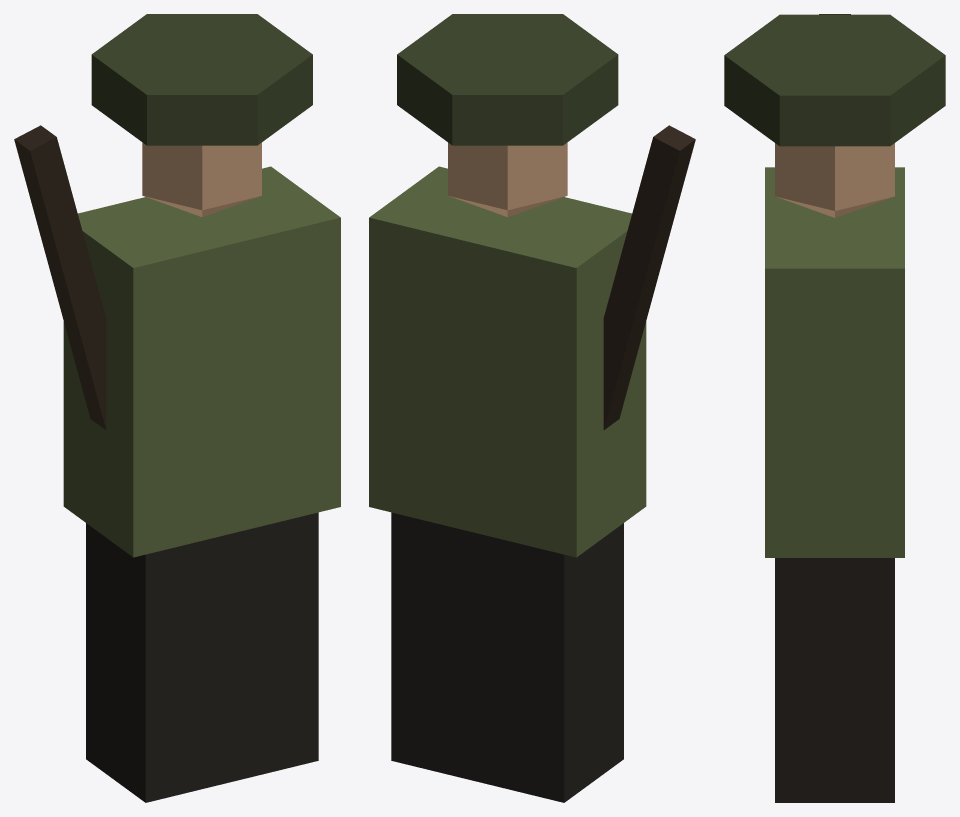
Rendered from soldier.glb.
3 views of the same model, side by side, from view 1: azimuth 30°, elevation 25°; view 2: azimuth 150°, elevation 25°; view 3: azimuth 270°, elevation 25° (orthographic).
Parts seen in each view (by area): view 1: uniform, legs, helmet, rifle, head; view 2: uniform, legs, helmet, rifle, head; view 3: uniform, legs, helmet, head.
Part boxes in pixels (x1,y1,x2,y2): uniform: (63,166,340,557); legs: (86,512,318,802); helmet: (91,14,312,145); rifle: (14,125,106,429); head: (142,142,261,217); uniform: (369,166,646,557); legs: (391,512,623,802); helmet: (397,14,618,145); rifle: (603,125,695,429); head: (448,142,567,217); uniform: (765,167,904,557); legs: (775,558,894,802); helmet: (724,14,945,146); head: (775,143,894,217).
Size of the model in its own units: 0.0821 by 0.195 by 0.0554.
